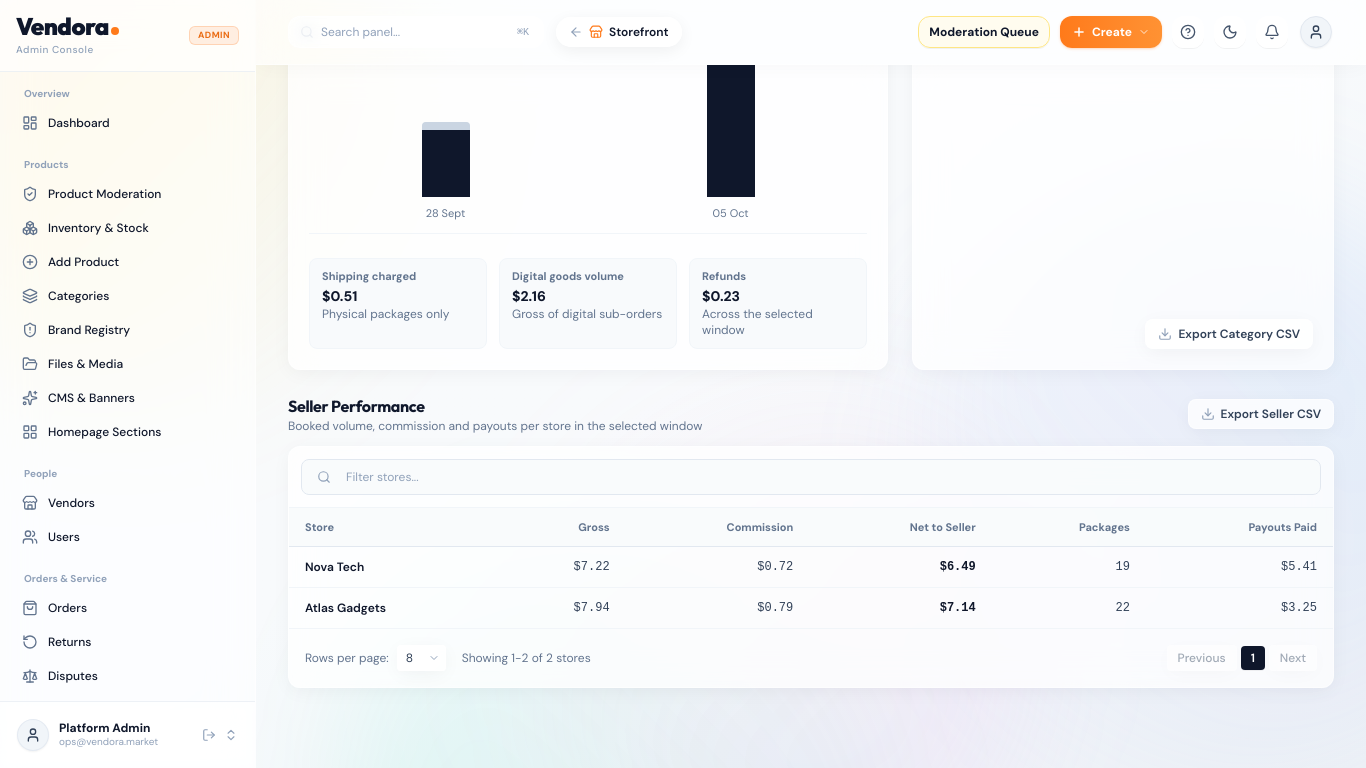
Test: AdminReportsPage › filters the seller table by store name
(page scrolled)
expect the text "Atlas Gadgets" is shown: met, box [305,600,386,616]
Type "nova" into the field named "Filter sellers by store name" at (811, 477), box [301,459,1321,495]
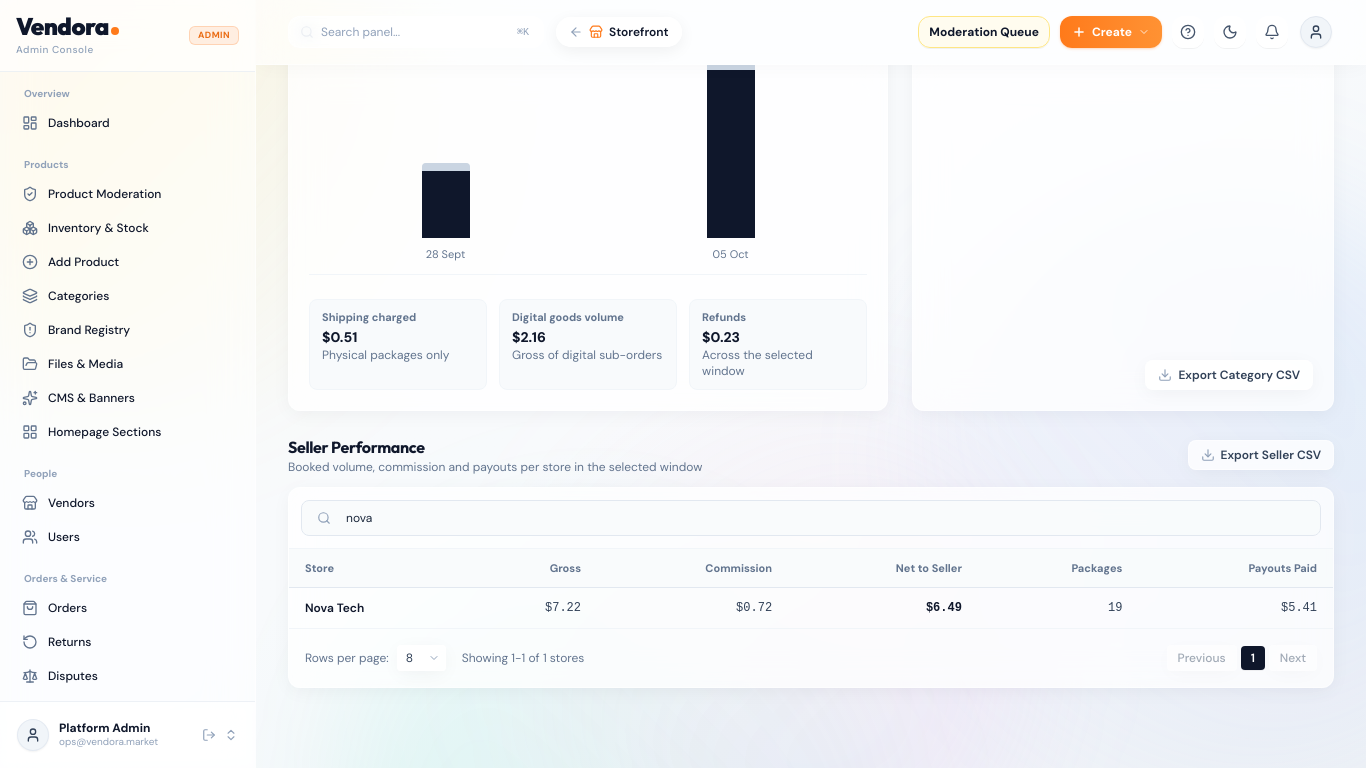
expect the text "Nova Tech" is shown: met, box [305,600,364,616]
expect the text "Atlas Gadgets" is gone: met
